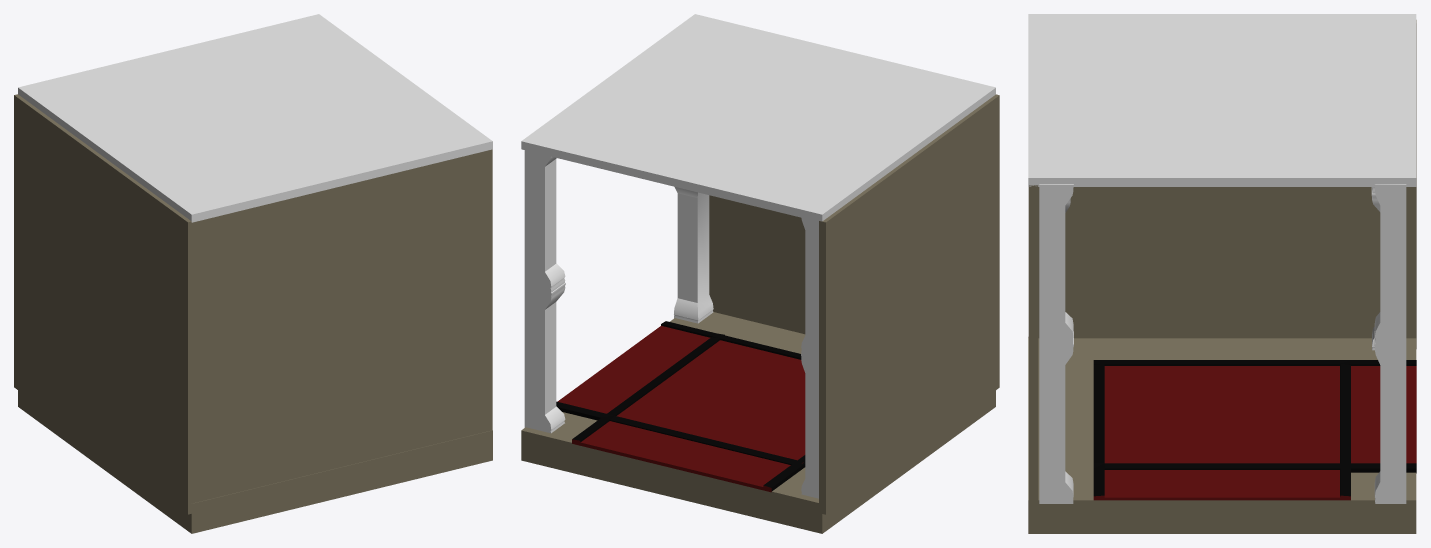
File: Coner.fbx
3 renders of one model, left to right at view 1: azimuth 30°, elevation 25°; view 2: azimuth 150°, elevation 25°; view 3: azimuth 270°, elevation 25°, orthographic. The views are drawn at different scales.
Visible parts, largest first — view 1: 立方体.001, 立方体.003, 立方体.002, 立方体.036; view 2: 立方体.003, 立方体.002, 立方体.005, 立方体.036, 立方体.009, 立方体.001, 立方体.022, 立方体.004, 立方体.006, 立方体.037, 立方体.007; view 3: 立方体.003, 立方体.002, 立方体.036, 立方体.037, 立方体.009, 立方体.005, 立方体.004, 立方体.022, 立方体.007, 立方体.001.
Part boxes in pixels (x1,y1,x2,y2): 立方体.001: (195, 149, 492, 502); 立方体.003: (18, 14, 492, 222); 立方体.002: (14, 94, 194, 514); 立方体.036: (18, 390, 492, 533); 立方体.003: (521, 14, 995, 221); 立方体.002: (819, 94, 999, 514); 立方体.005: (572, 337, 805, 492); 立方体.036: (521, 312, 995, 533); 立方体.009: (556, 321, 805, 464); 立方体.001: (709, 195, 805, 334); 立方体.022: (524, 150, 565, 433); 立方体.004: (674, 186, 713, 323); 立方体.006: (801, 217, 818, 498); 立方体.037: (558, 323, 803, 464); 立方体.007: (586, 333, 805, 487); 立方体.003: (1028, 14, 1416, 186); 立方体.002: (1028, 20, 1416, 348); 立方体.036: (1028, 337, 1416, 533); 立方体.037: (1093, 360, 1350, 493); 立方体.009: (1093, 364, 1350, 500); 立方体.005: (1106, 360, 1416, 473); 立方体.004: (1039, 184, 1073, 503); 立方体.022: (1374, 184, 1406, 503); 立方体.007: (1093, 360, 1380, 472); 立方体.001: (1029, 185, 1038, 511).
Bounding box in the file's own units: 2031 × 2027 × 2001.
